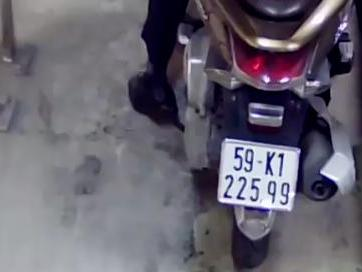num_plate: (216, 136, 301, 212)
